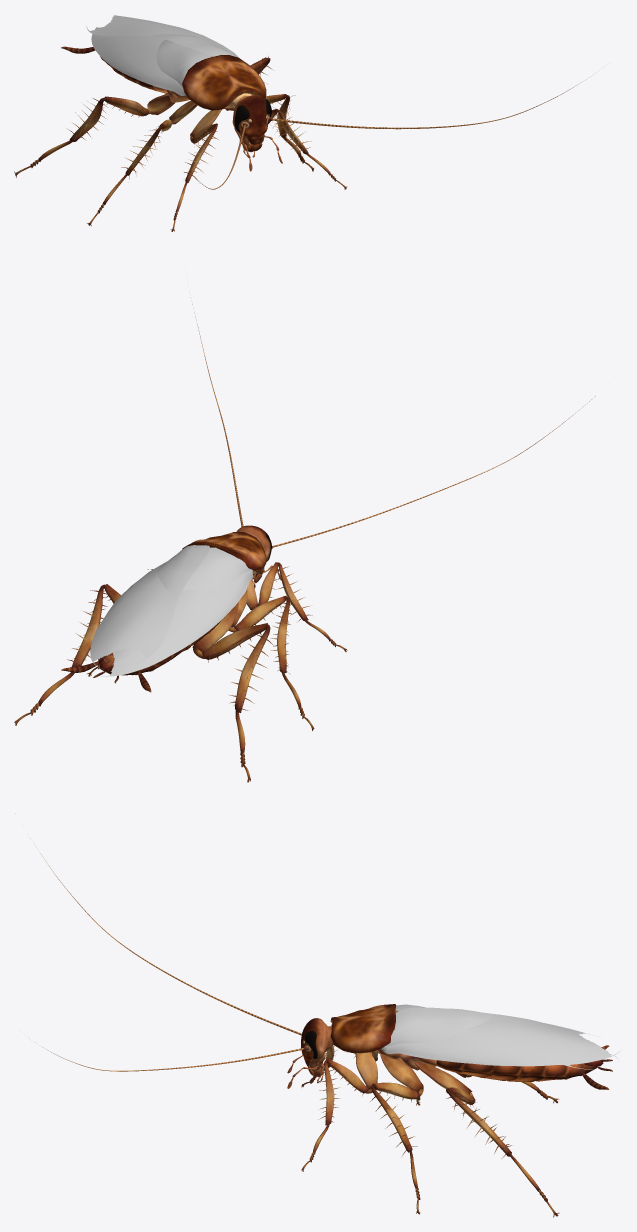
Rendered from insect.fbx.
3 views of the same model, one above another, from view 1: azimuth 30°, elevation 25°; view 2: azimuth 150°, elevation 25°; view 3: azimuth 270°, elevation 25° (orthographic).
Parts seen in each view (by area): view 1: insect; view 2: insect; view 3: insect.
Boxes of the visible parts, x1=… form: insect: x1=14, y1=15, x2=586, y2=231; insect: x1=14, y1=297, x2=595, y2=782; insect: x1=40, y1=853, x2=620, y2=1217.
Bounding box in the file's own units: 299 × 158 × 359.
